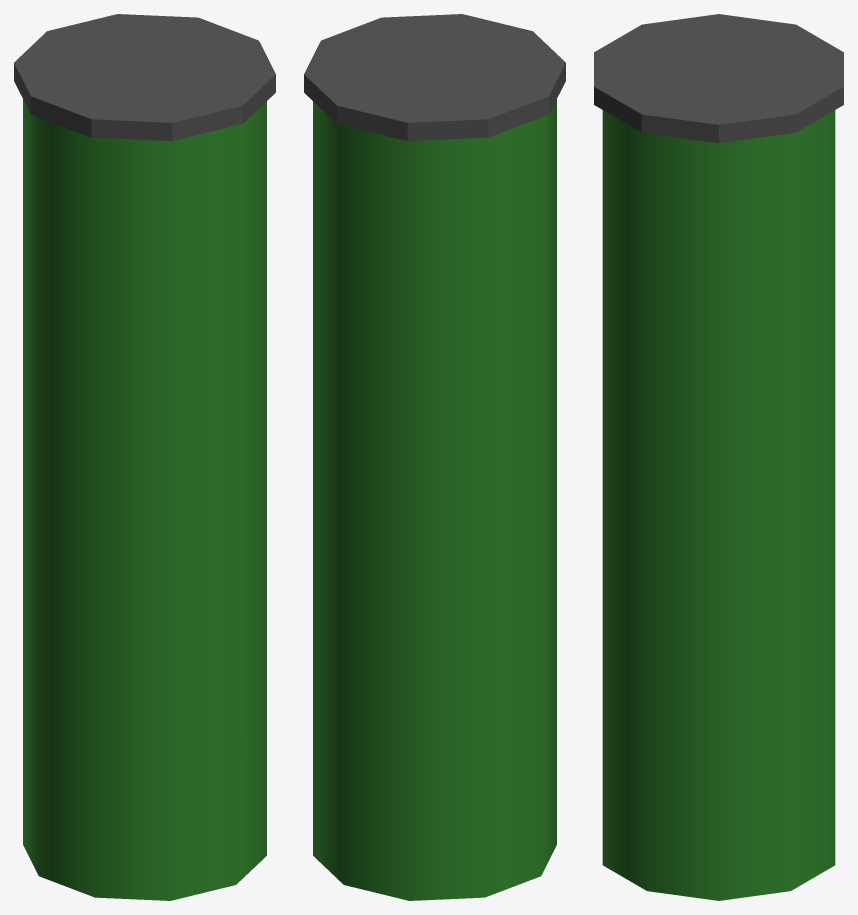
Rendered from SM_Pringles.fbx.
3 views of the same model, side by side, from view 1: azimuth 30°, elevation 25°; view 2: azimuth 150°, elevation 25°; view 3: azimuth 270°, elevation 25° (orthographic).
Parts seen in each view (by area): view 1: SM_Pringles; view 2: SM_Pringles; view 3: SM_Pringles.
Boxes of the visible parts, x1,y1,x2,y2 form: SM_Pringles: (14, 14, 275, 900); SM_Pringles: (304, 14, 565, 900); SM_Pringles: (594, 14, 843, 900).
Size of the model in its own units: 9.39 by 30.76 by 8.93.
